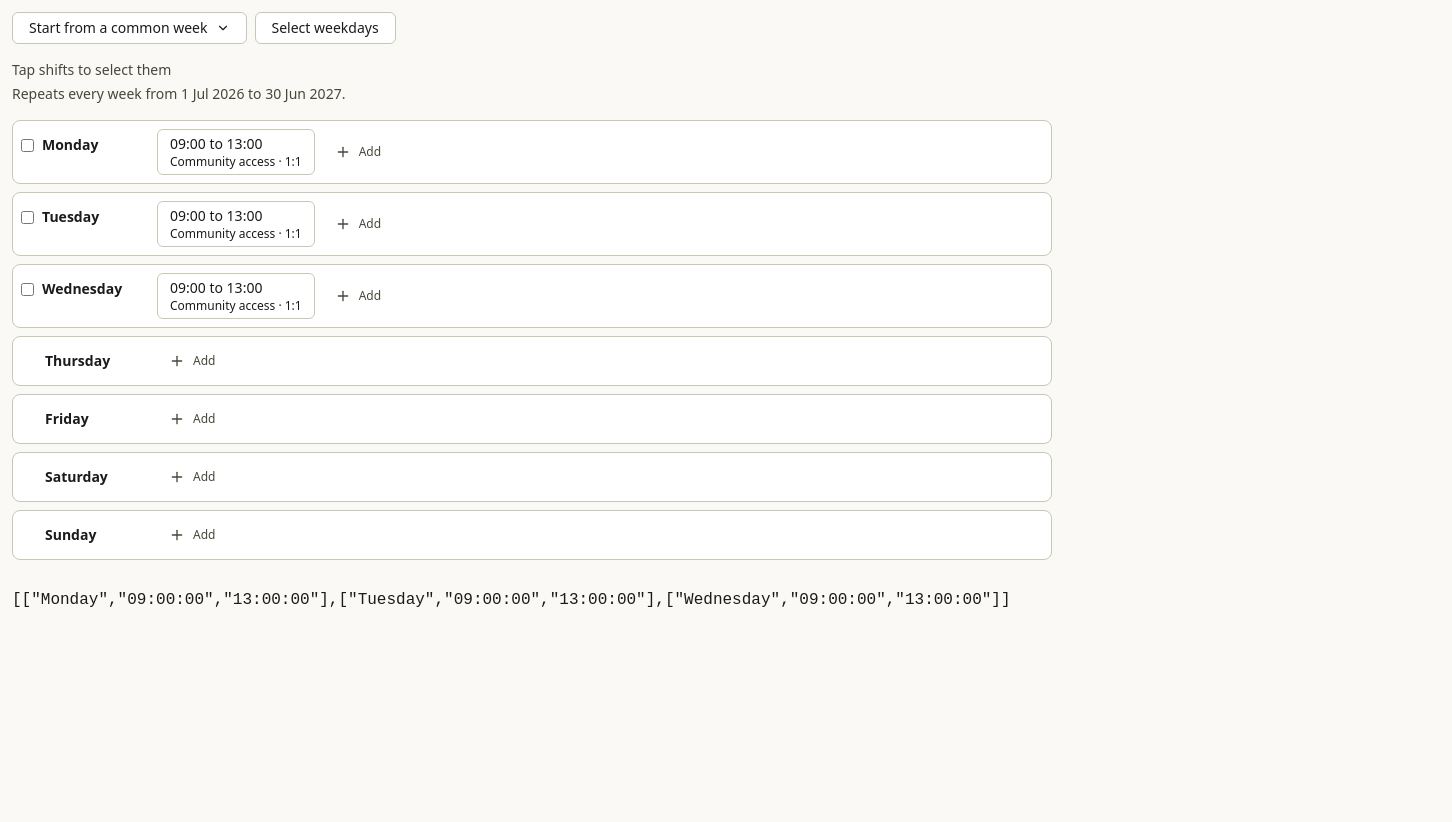
Test: WeekStep on a phone › puts a pressed chip down with a tick as well as a fill
Click the button with aria-label "Monday 09:00" at x=236, y=152, box [157,129,315,175]
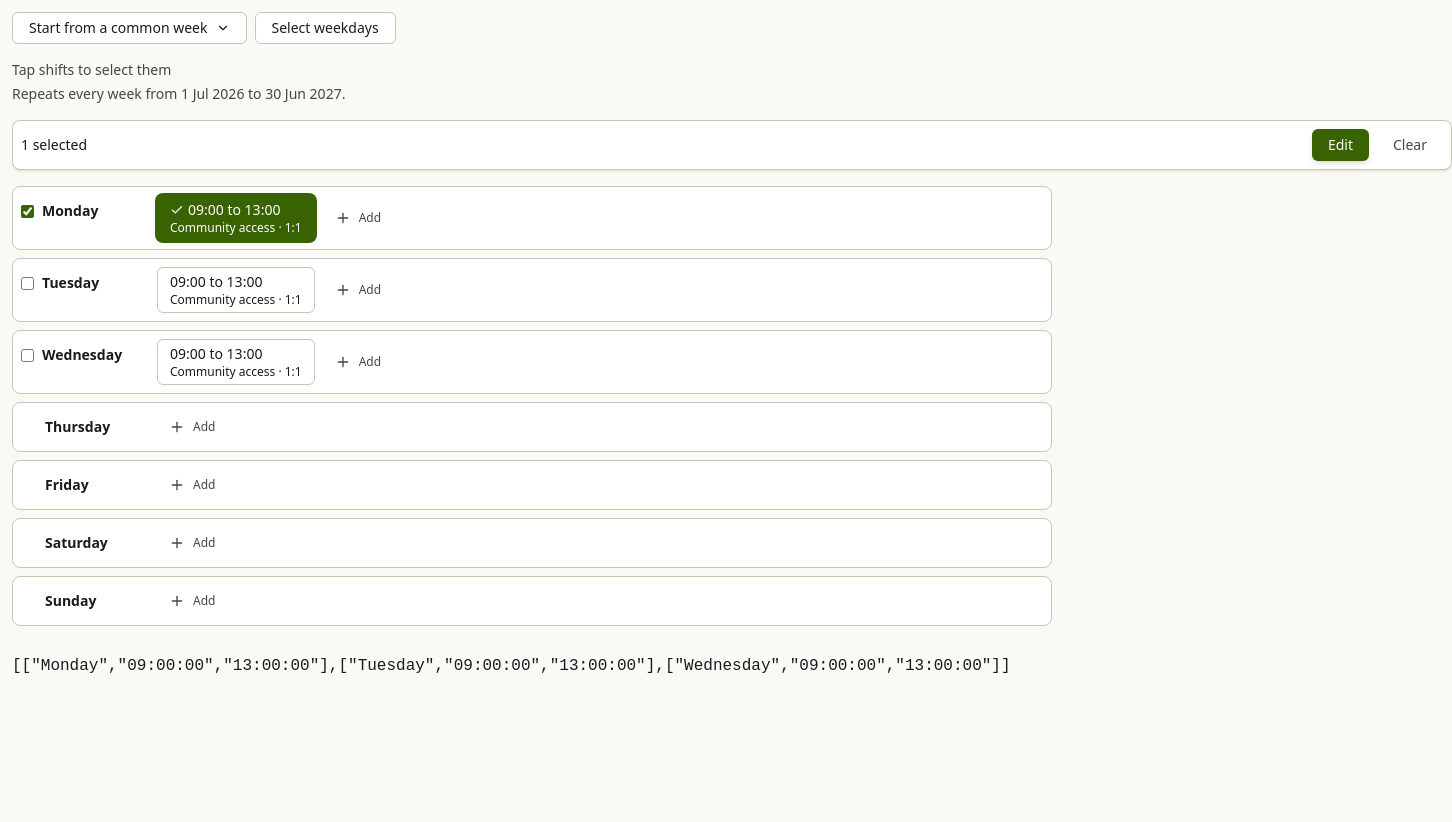
Expected: the 2nd icon is shown, [170,203,184,217]
